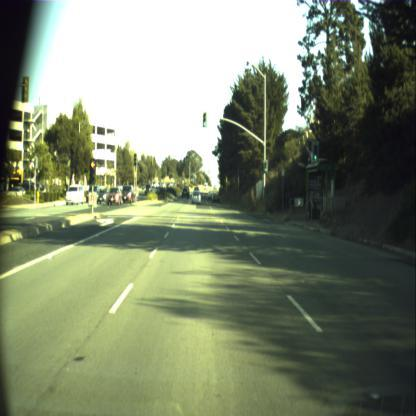Green: (311, 140, 319, 160), (202, 112, 207, 127), (263, 158, 268, 172)
RedLeft: (88, 158, 96, 184)
